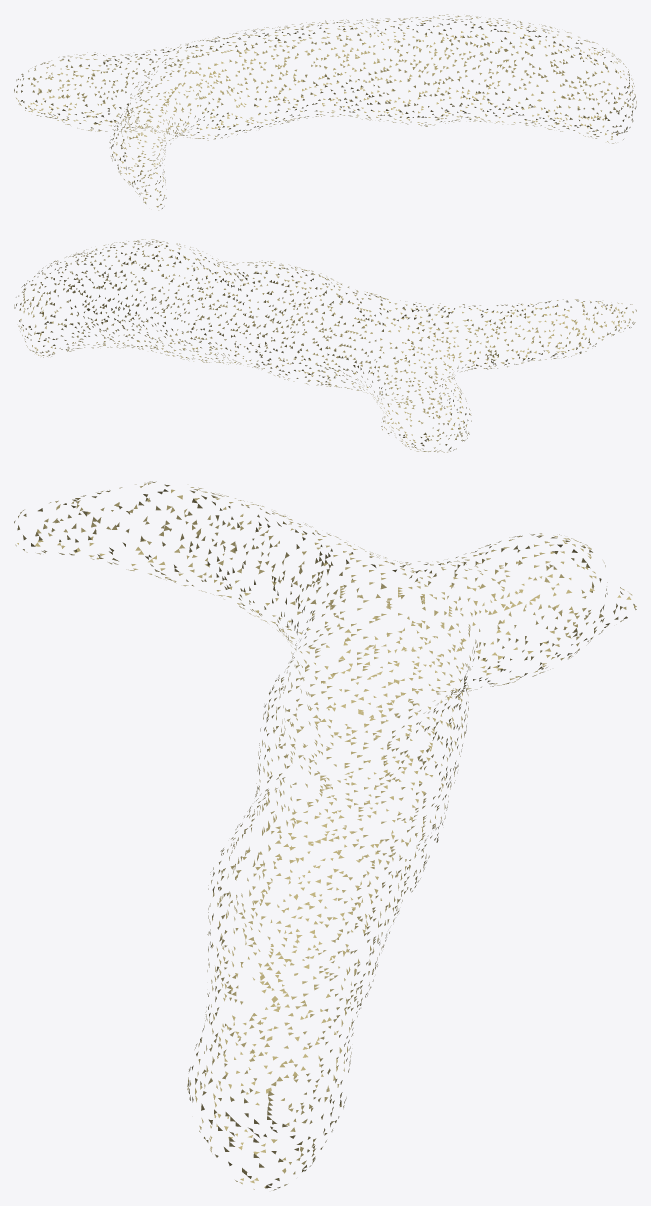
The model's file is morph_008.glb.
3 renders of one model, top to bottom at view 1: azimuth 30°, elevation 25°; view 2: azimuth 150°, elevation 25°; view 3: azimuth 270°, elevation 25°, orthographic. The views are drawn at different scales.
Size of the model in its own units: 138 by 39.06 by 76.5.
